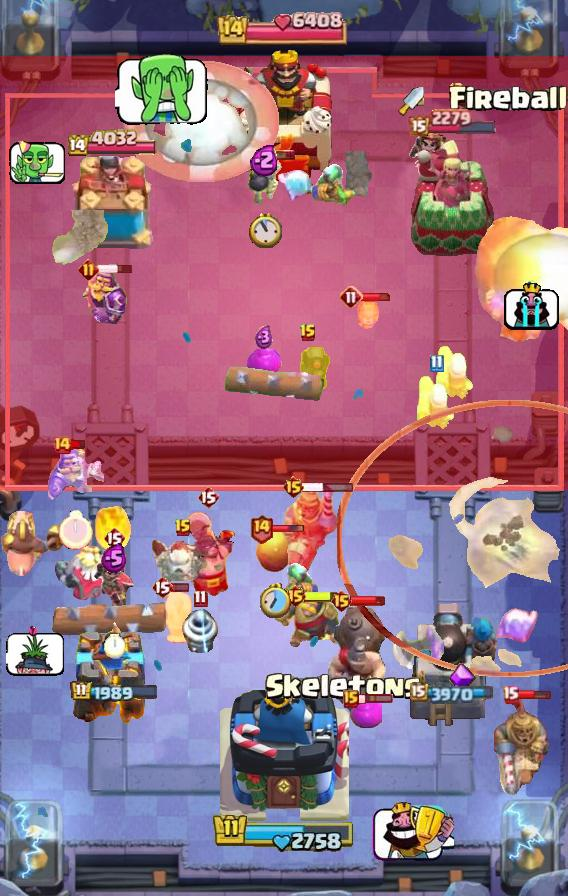axe: (392, 625, 444, 675)
bar: (302, 482, 354, 493), (304, 590, 340, 603), (357, 693, 394, 705), (97, 263, 134, 275), (350, 595, 386, 607), (260, 149, 296, 161), (516, 689, 552, 700), (271, 524, 305, 534), (361, 292, 393, 302), (171, 582, 190, 593), (70, 439, 87, 450)
bar-level: (249, 513, 274, 544), (339, 285, 363, 309), (330, 589, 353, 613), (284, 584, 307, 608), (282, 475, 305, 499), (151, 575, 173, 599), (103, 526, 125, 550), (197, 485, 219, 509), (78, 259, 99, 280), (52, 435, 72, 455), (174, 518, 192, 538), (299, 323, 317, 343), (502, 685, 519, 704), (343, 690, 359, 708), (193, 589, 208, 608), (429, 354, 444, 373)
bomber: (247, 152, 283, 206)
cannoneer-tower: (408, 599, 498, 731)
clock: (59, 510, 93, 550), (249, 212, 282, 248), (260, 583, 291, 618), (104, 634, 125, 658)
dagger-duchess-tower: (409, 138, 497, 256)
dirt: (50, 210, 113, 271), (337, 151, 375, 197)
elixir: (250, 143, 280, 176), (101, 543, 127, 574), (255, 325, 273, 350)
elixir-golem-small: (246, 349, 282, 379), (350, 698, 382, 728)
emote: (115, 51, 209, 126), (370, 800, 454, 864), (6, 624, 66, 677), (7, 136, 66, 187), (503, 279, 560, 331)
evolution-symbol: (448, 663, 476, 695)
executioner: (180, 510, 236, 598)
firecracker: (415, 373, 457, 431), (434, 343, 476, 401)
ice-spirit: (276, 168, 320, 204)
ice-spirit-evolution: (494, 605, 540, 647)
king-tower: (220, 678, 349, 826), (232, 45, 336, 181)
king-tower-bar: (212, 812, 356, 854), (217, 11, 351, 45)
knight: (275, 592, 341, 649)
knight-evolution: (48, 447, 104, 503), (83, 266, 128, 325)
lava-pup: (354, 293, 382, 329)
little-prince: (92, 553, 136, 609), (409, 133, 449, 181)
mini-pekka: (283, 343, 333, 397)
phoenix-egg: (256, 526, 294, 574)
queen-tower: (72, 619, 156, 731), (68, 156, 160, 256)
royal-ghost: (53, 540, 115, 600)
royal-hog: (163, 587, 195, 647)
spear-goblin: (272, 562, 322, 606), (308, 163, 358, 207)
the-log: (43, 597, 173, 639), (223, 365, 329, 403)
tower-bar: (68, 129, 160, 159), (408, 108, 498, 136), (70, 680, 159, 704), (410, 682, 496, 704)
zappy: (178, 607, 222, 657)
